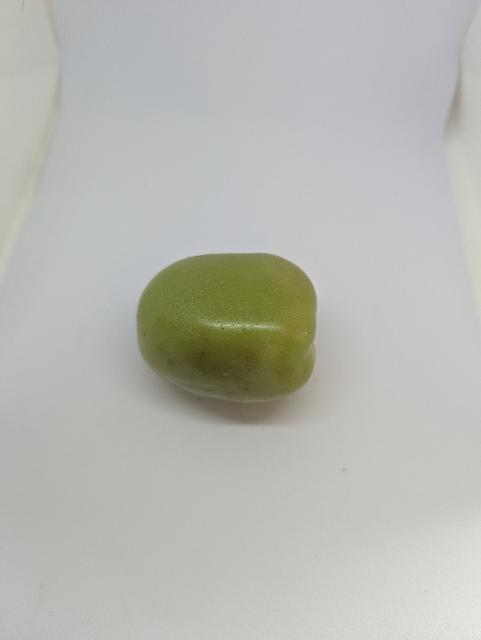green: (133, 247, 330, 415)
